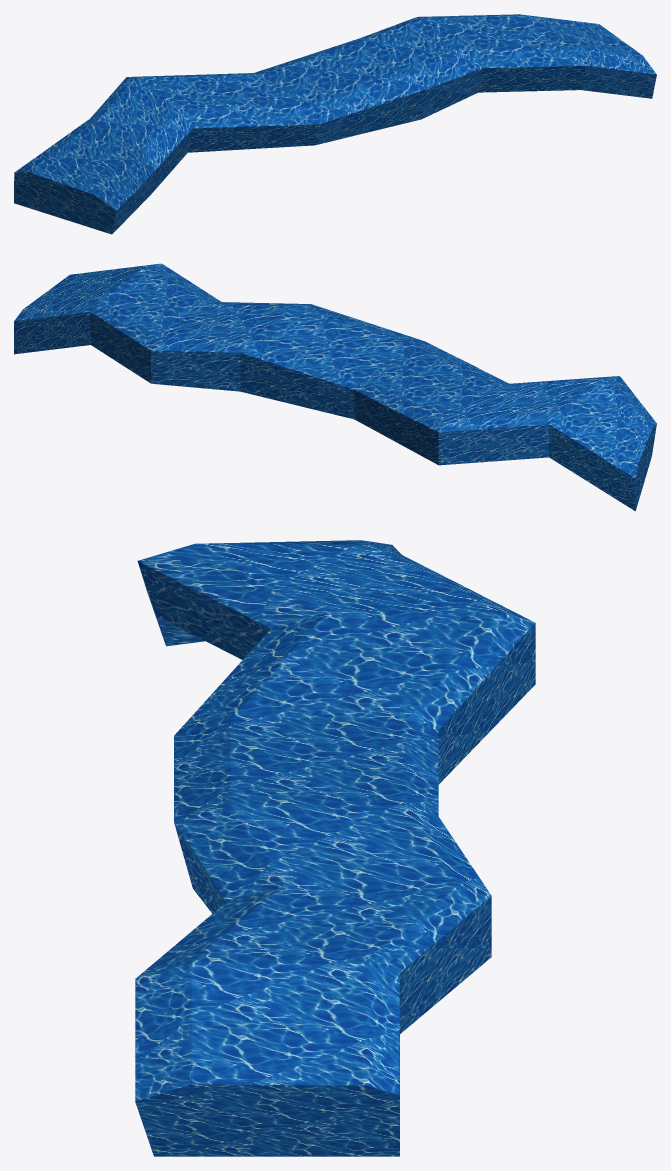
File: river1.glb
3 renders of one model, top to bottom at view 1: azimuth 30°, elevation 25°; view 2: azimuth 150°, elevation 25°; view 3: azimuth 270°, elevation 25°, orthographic. The views are drawn at different scales.
Parts seen in each view (by area): view 1: Cube.001; view 2: Cube.001; view 3: Cube.001.
Boxes of the visible parts, box(x1,y1,x2,y2) form: Cube.001: box(14, 14, 656, 234); Cube.001: box(14, 263, 656, 511); Cube.001: box(135, 540, 535, 1156).
Size of the model in its own units: 10.87 by 1.34 by 3.26.
1 material, 1 textured.
